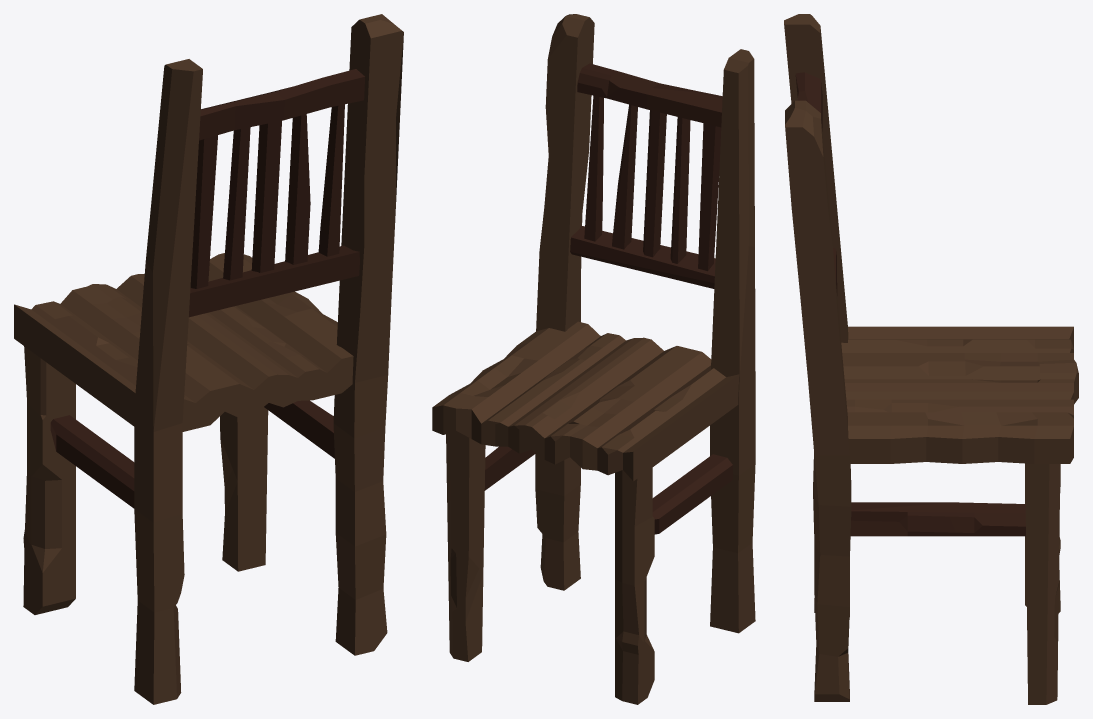
File: Chair_4_Brown.fbx
3 views of the same model, side by side, from view 1: azimuth 30°, elevation 25°; view 2: azimuth 150°, elevation 25°; view 3: azimuth 270°, elevation 25° (orthographic). The views are drawn at different scales.
Visible parts, largest first — view 1: Cube.254, Cube.253, Cube.250, Cube.251, Cube.252, Cube.258, Cube.257, Cube.256, Cube.262, Cube.261, Cube.260, Cube.259 (+2 smaller); view 2: Cube.250, Cube.253, Cube.254, Cube.251, Cube.252, Cube.258, Cube.257, Cube.256, Cube.260, Cube.262, Cube.261, Cube.264 (+2 smaller); view 3: Cube.250, Cube.254, Cube.252, Cube.255, Cube.253, Cube.258.
Boxes of the visible parts, bbox=[...] form: Cube.254: bbox=[333, 14, 403, 655]; Cube.253: bbox=[134, 59, 202, 704]; Cube.250: bbox=[14, 253, 353, 431]; Cube.251: bbox=[23, 346, 75, 614]; Cube.252: bbox=[220, 407, 268, 571]; Cube.258: bbox=[199, 69, 364, 140]; Cube.257: bbox=[189, 245, 359, 317]; Cube.256: bbox=[50, 415, 134, 508]; Cube.262: bbox=[251, 121, 281, 272]; Cube.261: bbox=[285, 114, 310, 264]; Cube.260: bbox=[190, 135, 217, 288]; Cube.259: bbox=[223, 127, 250, 280]; Cube.250: bbox=[432, 321, 739, 481]; Cube.253: bbox=[710, 49, 755, 633]; Cube.254: bbox=[535, 14, 594, 590]; Cube.251: bbox=[615, 467, 654, 704]; Cube.252: bbox=[446, 431, 485, 661]; Cube.258: bbox=[577, 63, 722, 127]; Cube.257: bbox=[570, 225, 715, 288]; Cube.256: bbox=[652, 454, 732, 534]; Cube.260: bbox=[698, 123, 721, 271]; Cube.262: bbox=[643, 110, 666, 257]; Cube.261: bbox=[612, 104, 637, 249]; Cube.264: bbox=[584, 95, 603, 241]; Cube.250: bbox=[841, 326, 1078, 463]; Cube.254: bbox=[785, 100, 851, 701]; Cube.252: bbox=[1025, 463, 1060, 704]; Cube.255: bbox=[850, 502, 1025, 536]; Cube.253: bbox=[784, 14, 849, 616]; Cube.258: bbox=[795, 72, 822, 131].
Bounding box in the file's own units: 187 × 483 × 218.
